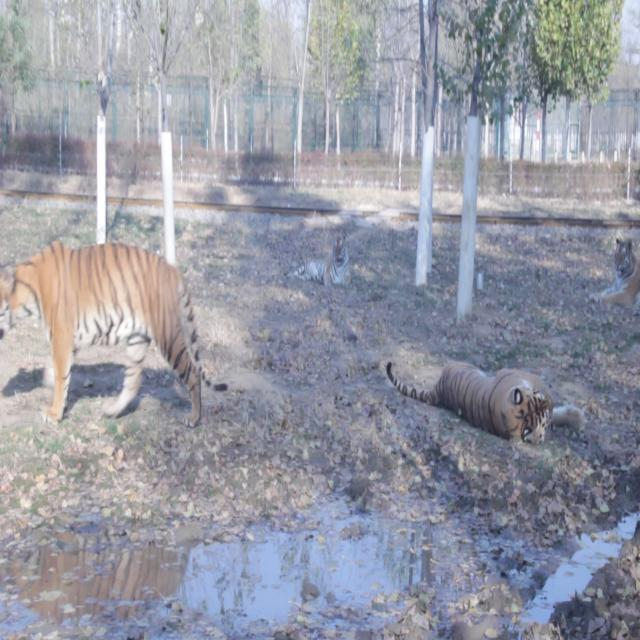Tiger: (0, 218, 228, 445), (381, 328, 583, 457), (285, 223, 360, 297), (589, 229, 640, 305)
